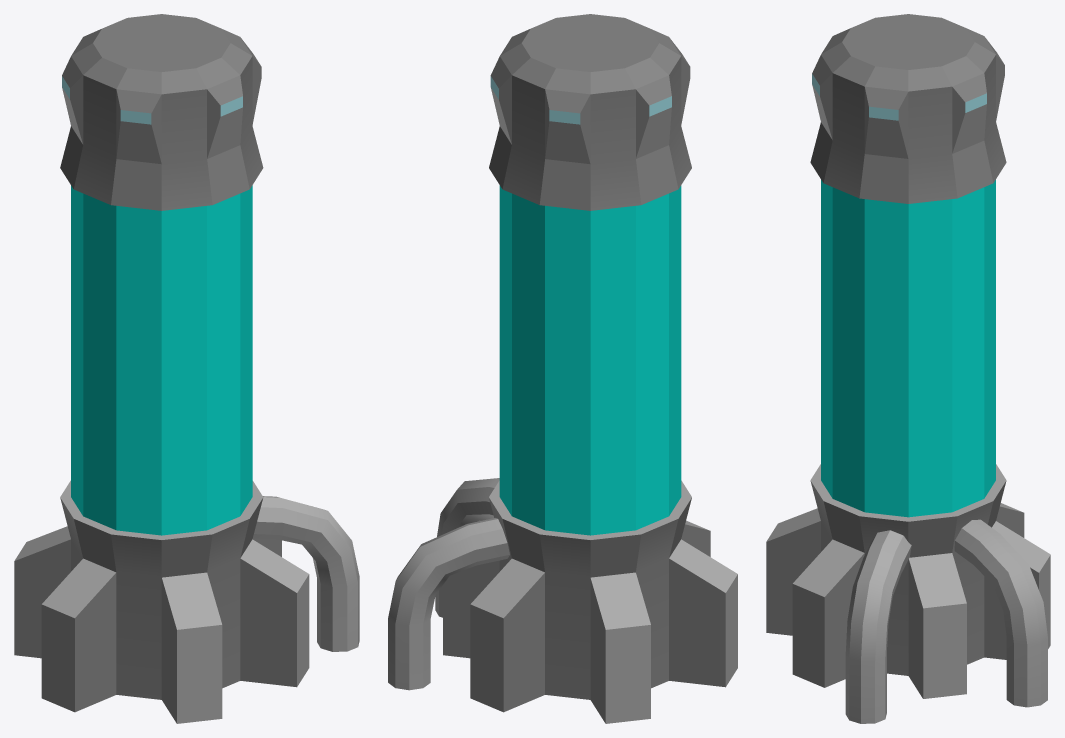
Rendered from LiquidTank.fbx.
3 renders of one model, left to right at view 1: azimuth 30°, elevation 25°; view 2: azimuth 150°, elevation 25°; view 3: azimuth 270°, elevation 25°, orthographic. The views are drawn at different scales.
Parts seen in each view (by area): view 1: pCylinder37; view 2: pCylinder37; view 3: pCylinder37.
Part boxes in pixels (x1,y1,x2,y2): pCylinder37: (14,14,359,723); pCylinder37: (388,14,737,723); pCylinder37: (766,14,1050,723).
Size of the model in its own units: 3.83 by 7.57 by 3.25.
